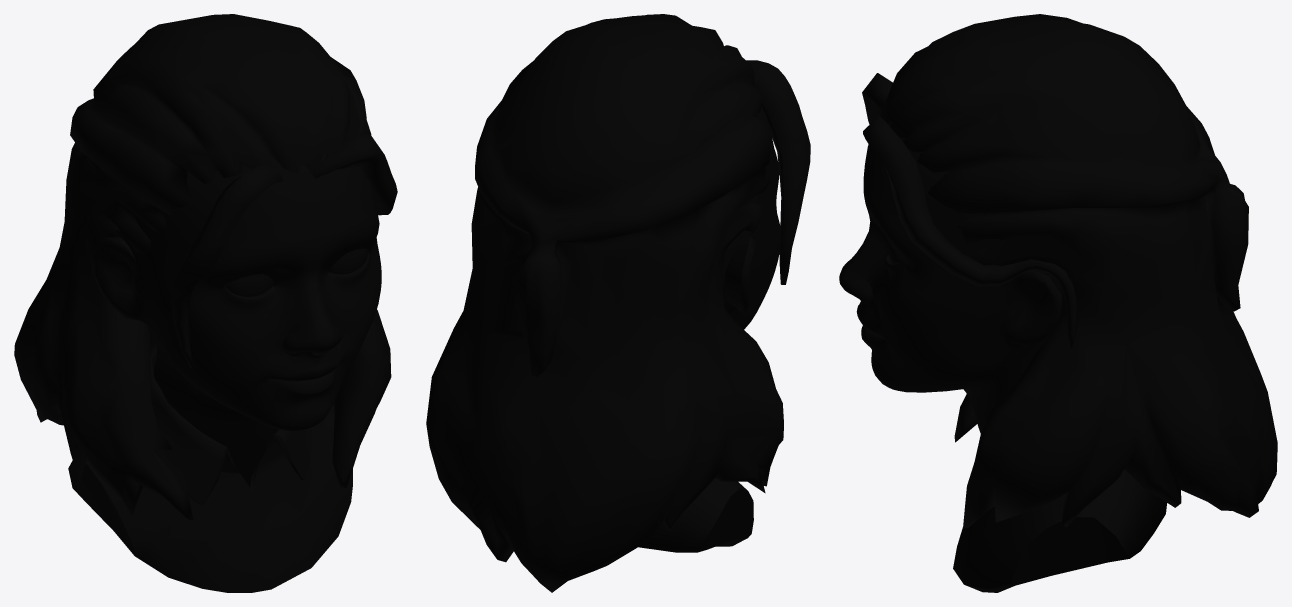
The model's file is newavatar.glb.
The picture shows the model from 3 angles, left to right: view 1: azimuth 30°, elevation 25°; view 2: azimuth 150°, elevation 25°; view 3: azimuth 270°, elevation 25°; orthographic projection. The views are drawn at different scales.
Parts seen in each view (by area): view 1: node_id62, node_id56, node_id65, node_id53, node_id50; view 2: node_id62, node_id56, node_id65; view 3: node_id62, node_id56, node_id65.
Boxes of the visible parts, box(x1,y1,x2,y2) form: node_id62: box(14, 14, 397, 520); node_id56: box(90, 153, 381, 487); node_id65: box(68, 341, 352, 592); node_id53: box(225, 274, 271, 296); node_id50: box(330, 248, 367, 274); node_id62: box(426, 14, 810, 592); node_id56: box(722, 107, 780, 329); node_id65: box(638, 478, 753, 552); node_id62: box(862, 14, 1277, 528); node_id56: box(839, 122, 1062, 433); node_id65: box(953, 469, 1166, 592).
Bounding box in the file's own units: 0.0744 × 0.122 × 0.0893.
6 materials, 6 textured.
